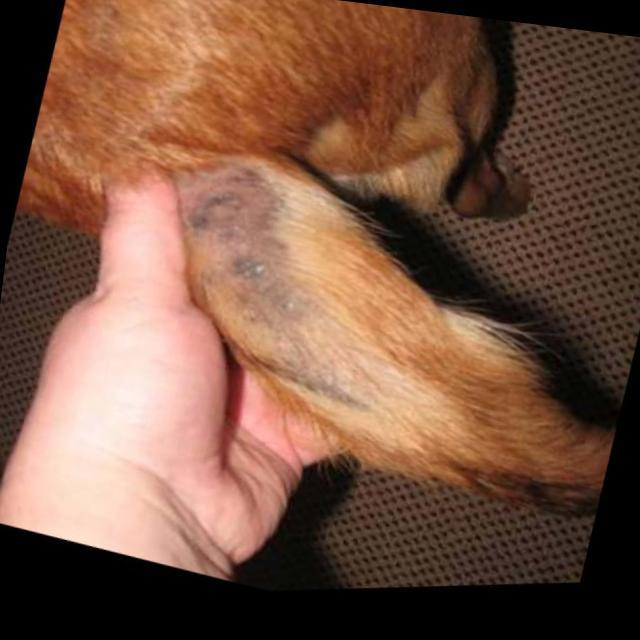allergic dermatitis: (168, 165, 358, 413)
